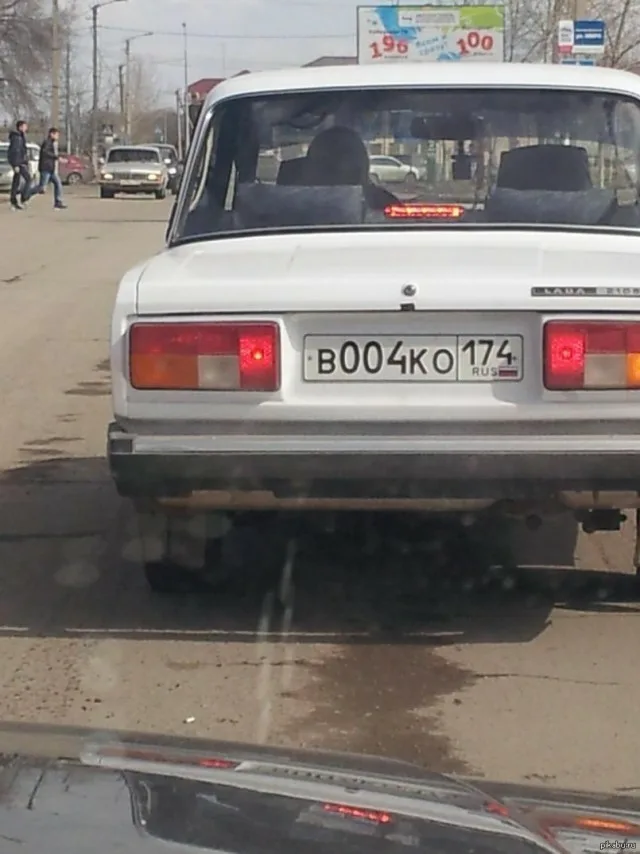number_plate: (303, 329, 530, 376)
